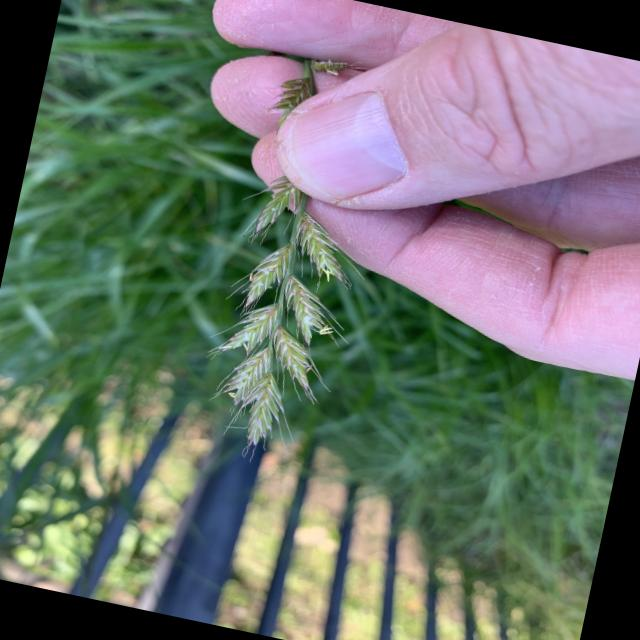Lolium: (181, 45, 409, 477)
